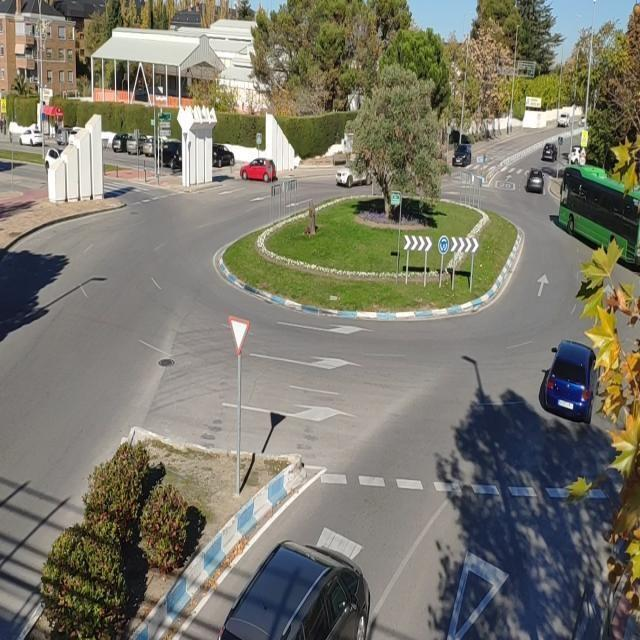Bus: (550, 156, 640, 264)
Car: (216, 543, 370, 639), (528, 330, 606, 424), (236, 156, 286, 187), (333, 160, 378, 192), (521, 168, 550, 198), (451, 140, 474, 169), (538, 138, 560, 166), (558, 108, 575, 132)
